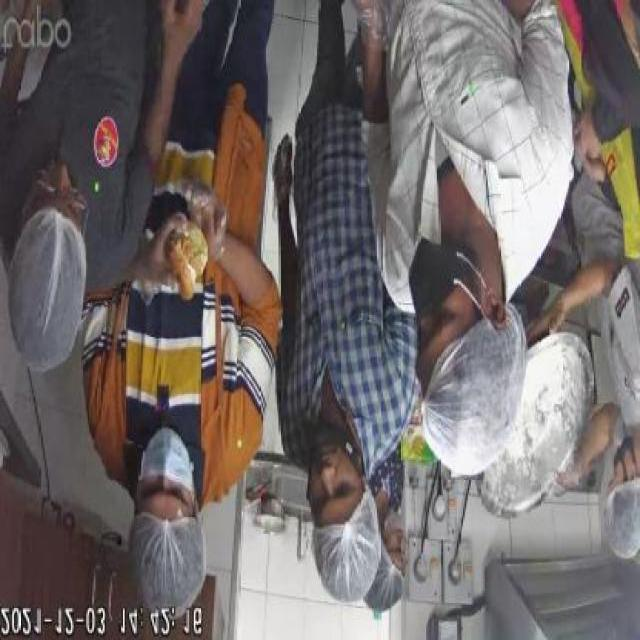hairnet: (430, 315, 528, 467), (10, 216, 86, 366), (133, 514, 203, 617), (312, 516, 378, 602), (605, 482, 640, 558), (366, 553, 402, 610)
